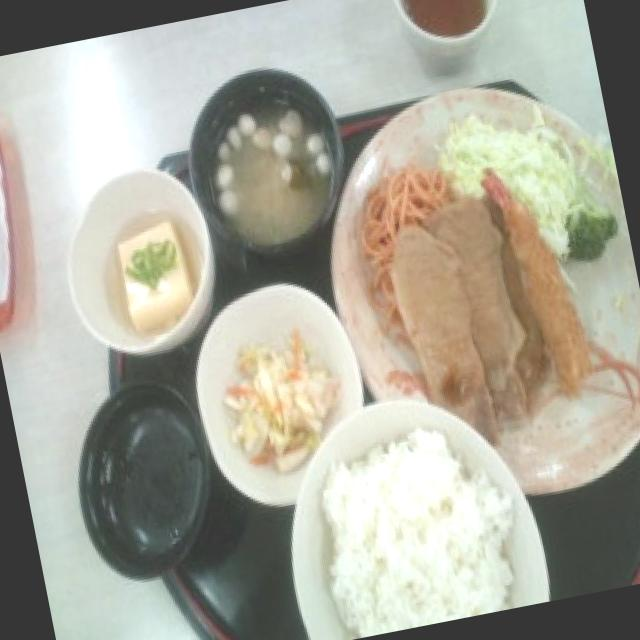Rice: (303, 411, 518, 640)
